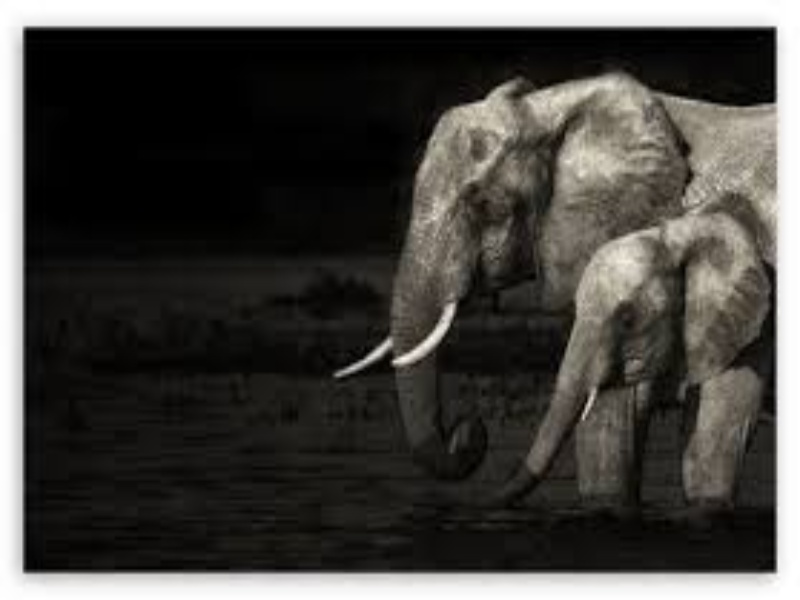elephant: (331, 73, 773, 518)
